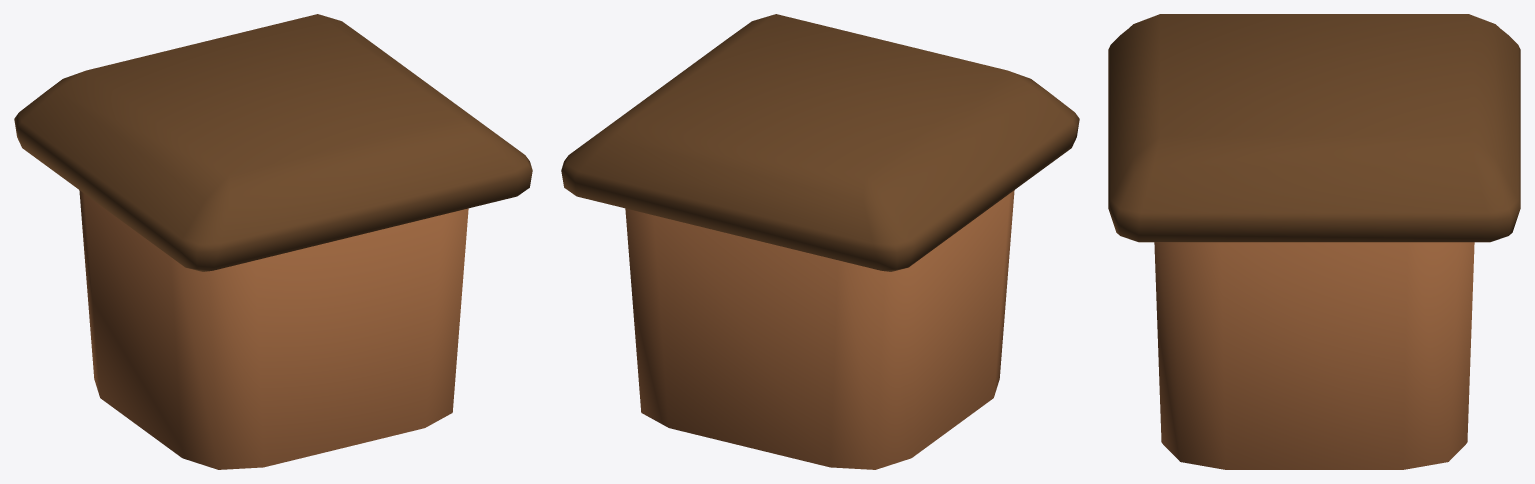
The model's file is Prop_Pouffes_01.fbx.
The picture shows the model from 3 angles, left to right: view 1: azimuth 30°, elevation 25°; view 2: azimuth 150°, elevation 25°; view 3: azimuth 270°, elevation 25°; orthographic projection. The views are drawn at different scales.
Parts seen in each view (by area): view 1: Prop_Pouffes_01; view 2: Prop_Pouffes_01; view 3: Prop_Pouffes_01.
Part boxes in pixels (box(x1,y1,x2,y2)): Prop_Pouffes_01: box(14, 14, 532, 469); Prop_Pouffes_01: box(561, 14, 1079, 469); Prop_Pouffes_01: box(1108, 14, 1520, 469).
Size of the model in its own units: 49.94 by 41.01 by 47.12.
